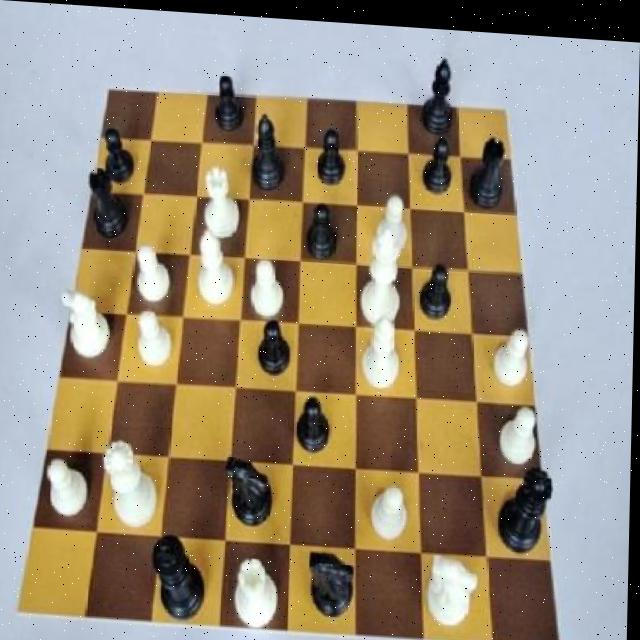bishop: (413, 42, 459, 141), (248, 107, 288, 205)
black-bishop: (149, 529, 213, 623)
black-king: (223, 440, 282, 538), (305, 540, 368, 627)
black-knight: (292, 376, 341, 466), (209, 59, 254, 142), (309, 118, 353, 194), (96, 127, 143, 196), (419, 245, 457, 321), (255, 312, 295, 384), (421, 128, 457, 207), (303, 191, 343, 262)
black-pawn: (496, 449, 560, 554)
black-queen: (463, 120, 515, 205), (87, 164, 132, 243)
black-rook: (360, 302, 408, 392), (195, 218, 238, 310)
white-bishop: (363, 221, 413, 319)
white-king: (426, 538, 487, 634), (60, 277, 121, 367)
white-knight: (365, 458, 416, 542), (45, 454, 95, 535), (497, 382, 544, 467), (491, 316, 538, 394), (132, 306, 179, 383), (247, 246, 293, 321), (374, 184, 415, 260), (136, 237, 175, 315)
white-pawn: (101, 434, 167, 533)
white-queen: (236, 545, 289, 629), (201, 157, 248, 247)
